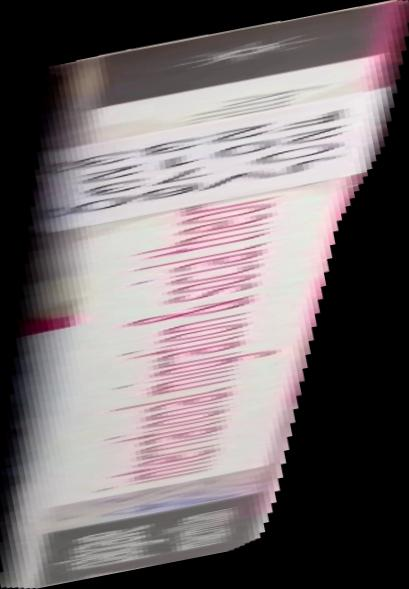reverse: (1, 1, 409, 589)
